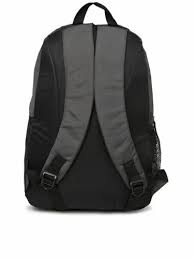backpack: (23, 1, 168, 211)
